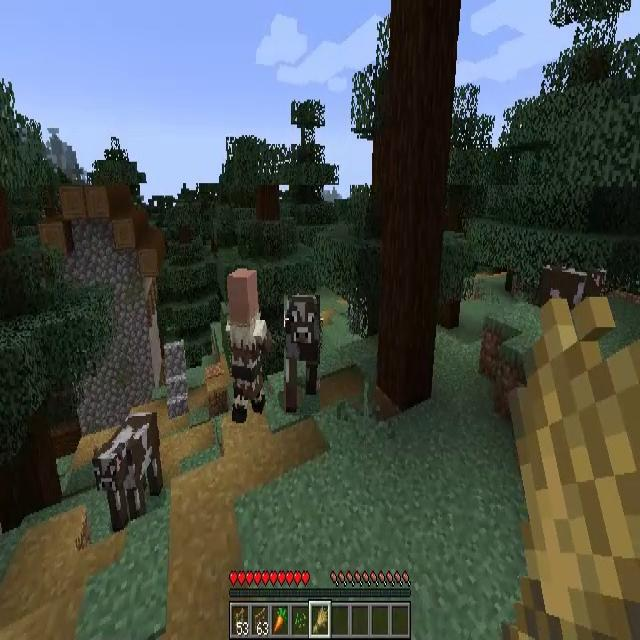cow: (95, 411, 163, 530), (540, 262, 608, 328), (284, 295, 320, 415)
people: (226, 268, 268, 425)
